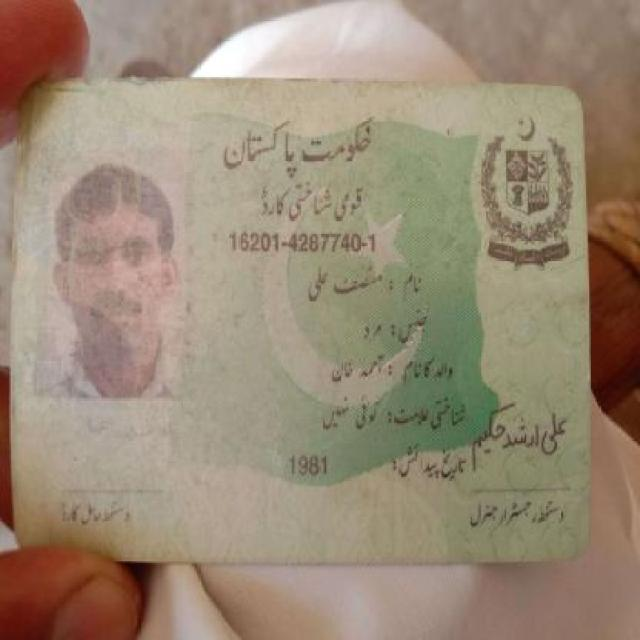Front: (14, 68, 598, 577)
